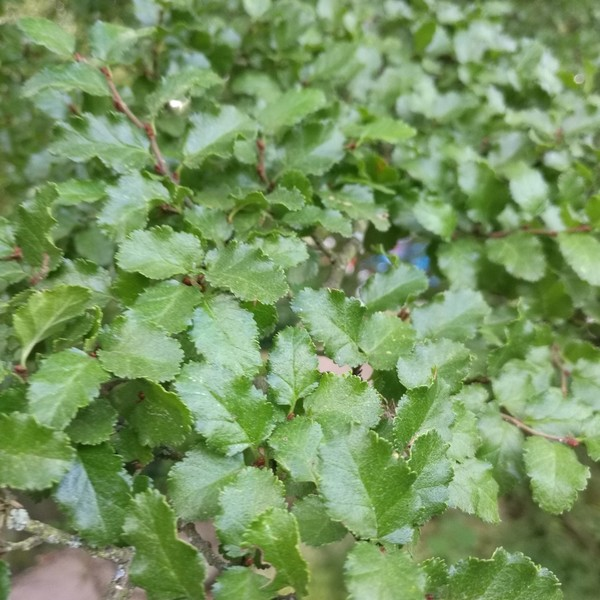obstacle: (48, 38, 572, 540)
